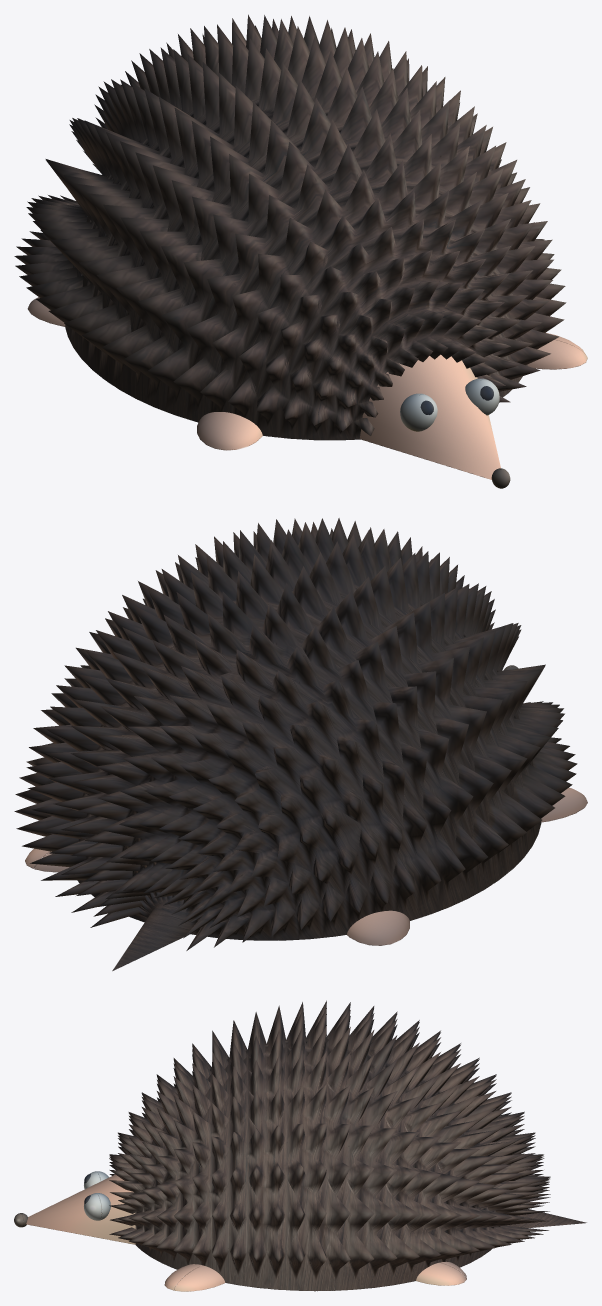
File: hedgelow.fbx
The picture shows the model from 3 angles, top to bottom: view 1: azimuth 30°, elevation 25°; view 2: azimuth 150°, elevation 25°; view 3: azimuth 270°, elevation 25°; orthographic projection. The views are drawn at different scales.
Parts seen in each view (by area): view 1: hedgehog:Hedge_Hedge; view 2: hedgehog:Hedge_Hedge; view 3: hedgehog:Hedge_Hedge.
Boxes of the visible parts, x1,y1,x2,y2 form: hedgehog:Hedge_Hedge: [14, 14, 587, 488]; hedgehog:Hedge_Hedge: [14, 518, 587, 971]; hedgehog:Hedge_Hedge: [14, 1000, 586, 1291].
Bounding box in the file's own units: 181 × 111 × 274.
